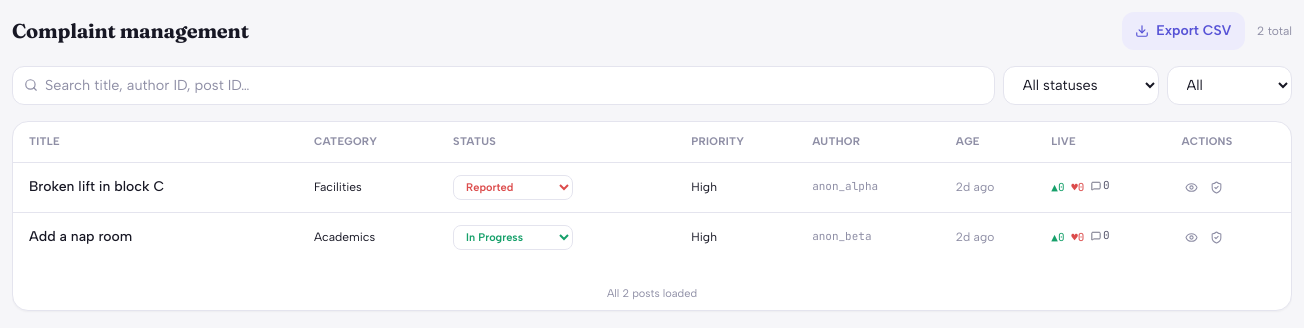
Test case: PostsTable — filters › filters by status dropdown
The image size is (1304, 328).
Expected: the text "Broken lift in block C" is shown, [29, 178, 164, 195]
selects: [global status, global category, row1 status, row2 status]
Select "In Progress" in the 1st dropdown. click: x=1081, y=85
box: [1003, 66, 1159, 104]
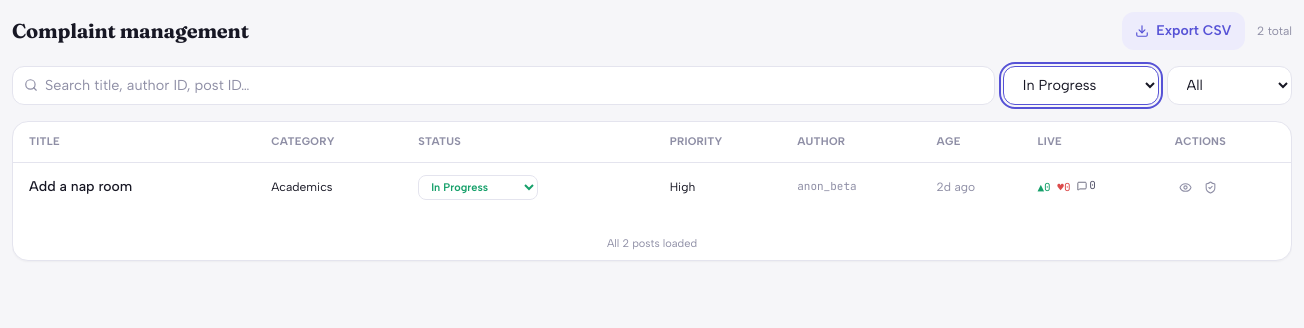
Expected: the text "Add a nap room" is shown, [29, 178, 132, 195]
Result: the text "Broken lift in block C" is gone
